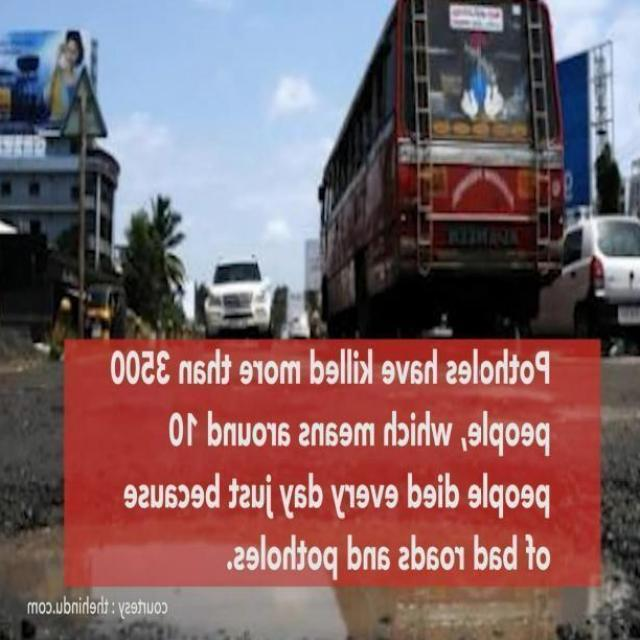Pathole: (0, 481, 640, 640)
